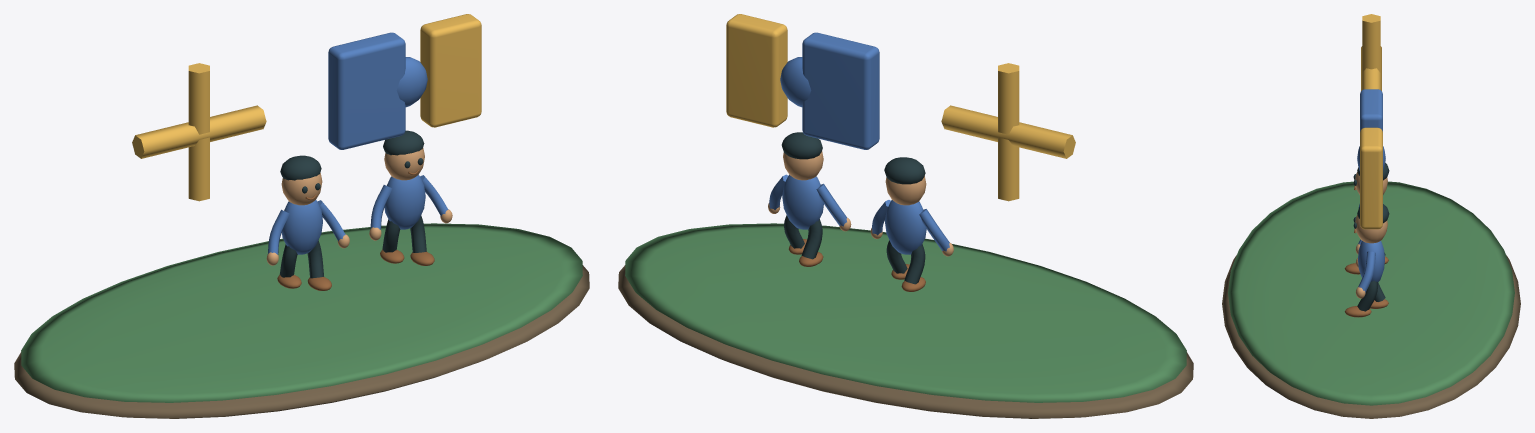
File: complete-second-together-same.glb
The picture shows the model from 3 angles, left to right: view 1: azimuth 30°, elevation 25°; view 2: azimuth 150°, elevation 25°; view 3: azimuth 270°, elevation 25°; orthographic projection. The views are drawn at different scales.
Parts seen in each view (by area): view 1: complete-second-together-same_surface_01, complete-second-together-same_surface_03, complete-second-together-same_surface_02, complete-second-together-same_surface_00, complete-second-together-same_surface_05, complete-second-together-same_surface_04, complete-second-together-same_surface_06; view 2: complete-second-together-same_surface_01, complete-second-together-same_surface_03, complete-second-together-same_surface_02, complete-second-together-same_surface_00, complete-second-together-same_surface_05, complete-second-together-same_surface_04, complete-second-together-same_surface_06; view 3: complete-second-together-same_surface_01, complete-second-together-same_surface_00, complete-second-together-same_surface_02, complete-second-together-same_surface_03, complete-second-together-same_surface_04, complete-second-together-same_surface_05, complete-second-together-same_surface_06.
Part boxes in pixels (x1,y1,x2,y2): complete-second-together-same_surface_01: [21, 223, 582, 402]; complete-second-together-same_surface_03: [267, 32, 448, 254]; complete-second-together-same_surface_02: [132, 14, 481, 201]; complete-second-together-same_surface_00: [14, 265, 589, 418]; complete-second-together-same_surface_05: [280, 130, 426, 278]; complete-second-together-same_surface_04: [266, 148, 452, 265]; complete-second-together-same_surface_06: [277, 169, 434, 290]; complete-second-together-same_surface_01: [625, 223, 1186, 402]; complete-second-together-same_surface_03: [769, 32, 949, 254]; complete-second-together-same_surface_02: [726, 14, 1075, 201]; complete-second-together-same_surface_00: [618, 265, 1193, 418]; complete-second-together-same_surface_05: [781, 132, 925, 284]; complete-second-together-same_surface_04: [768, 151, 953, 256]; complete-second-together-same_surface_06: [788, 239, 925, 291]; complete-second-together-same_surface_01: [1228, 181, 1514, 405]; complete-second-together-same_surface_00: [1222, 255, 1520, 418]; complete-second-together-same_surface_02: [1360, 14, 1382, 229]; complete-second-together-same_surface_03: [1357, 89, 1385, 292]; complete-second-together-same_surface_04: [1355, 172, 1387, 298]; complete-second-together-same_surface_05: [1353, 163, 1389, 311]; complete-second-together-same_surface_06: [1344, 186, 1388, 317].
Size of the model in its own units: 4.56 by 2.37 by 2.5.
